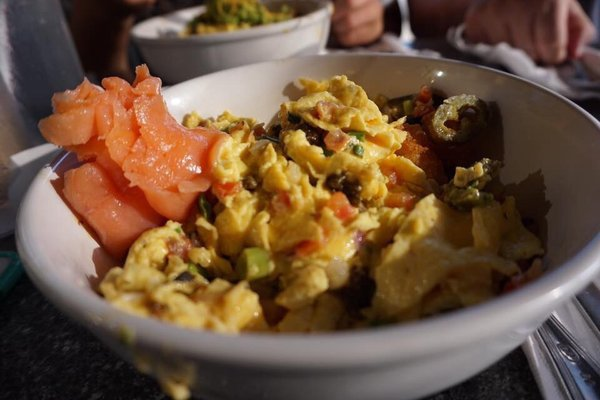sushi: (27, 46, 594, 390), (130, 1, 334, 85)
